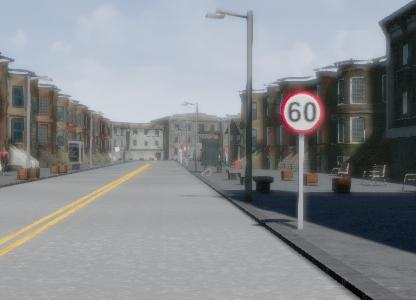Speed_60: (224, 96, 261, 132)
